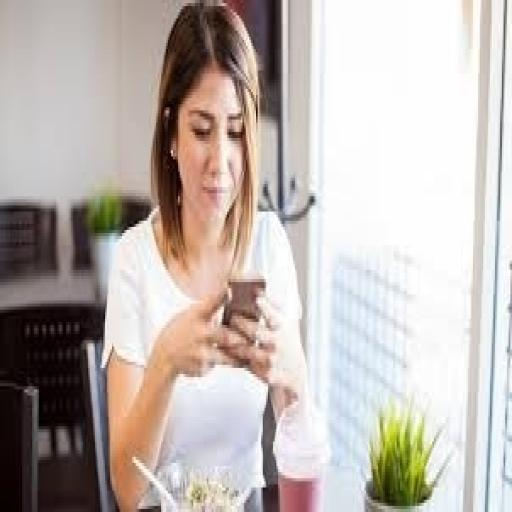texting: (98, 0, 322, 509)
